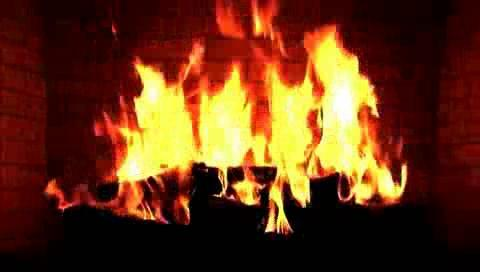fire: (98, 28, 395, 224)
